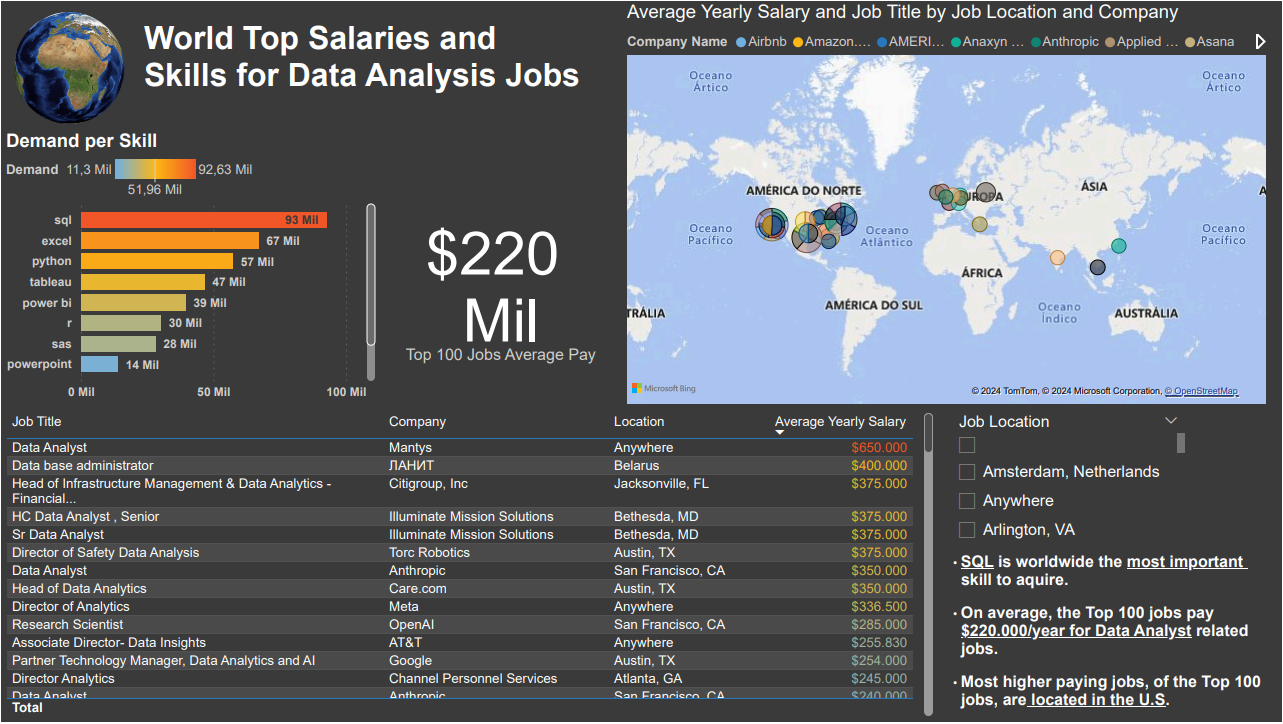

The page's visual inventory and layout, read from the dashboard file:
{"tool":"powerbi","page":{"name":"World Stats","canvas":[1280,720],"ordinal":0},"visuals":[{"type":"textbox","box":[138.3,13.6,448.5,108.3],"z":0},{"type":"image","box":[0,0,138.1,138.1],"z":1000},{"type":"barChart","title":"Demand per Skill","fields":{"Category":["top_demanded_skills_world.skills"],"Y":["Sum(top_demanded_skills_world.demand_count)"]},"box":[0,129.2,379.4,277.5],"z":2000},{"type":"tableEx","fields":{"Values":["top100_paying_jobs_world.job_title","top100_paying_jobs_world.company_name","top100_paying_jobs_world.job_location","top100_paying_jobs_world.salary_year_avg"]},"box":[0,407,937.2,313],"z":3000},{"type":"map","title":"Average Yearly Salary and Job Title by Job Location and Company ","fields":{"Size":["Avg(top100_paying_jobs_world.salary_year_avg)"],"Category":["top100_paying_jobs_world.job_location"],"Series":["top100_paying_jobs_world.company_name"]},"box":[621.4,0,647.7,406.7],"z":4000},{"type":"slicer","fields":{"Values":["top100_paying_jobs_world.job_location"]},"box":[945.2,407,243.8,140.1],"z":5000},{"type":"textbox","box":[937.2,547.1,343.2,165.8],"z":6000},{"type":"card","fields":{"Values":["Avg(top100_paying_jobs_world.salary_year_avg)"]},"box":[379.4,164.7,242,242],"z":7000}]}

Visuals, with their boxes in screenshot pixels (x1, y1, x2, y2), scaled from the page's 1280x720 canvas onto the 1283x724 screenshot:
textbox: (left=139, top=14, right=588, bottom=123)
image: (left=0, top=0, right=138, bottom=139)
"Demand per Skill" barChart: (left=0, top=130, right=380, bottom=409)
tableEx - top100_paying_jobs_world.job_title x top100_paying_jobs_world.company_name: (left=0, top=409, right=939, bottom=723)
"Average Yearly Salary and Job Title by Job Location and Company " map: (left=623, top=0, right=1272, bottom=409)
slicer - top100_paying_jobs_world.job_location: (left=947, top=409, right=1192, bottom=550)
textbox: (left=939, top=550, right=1282, bottom=717)
card - Avg(top100_paying_jobs_world.salary_year_avg): (left=380, top=166, right=623, bottom=409)
